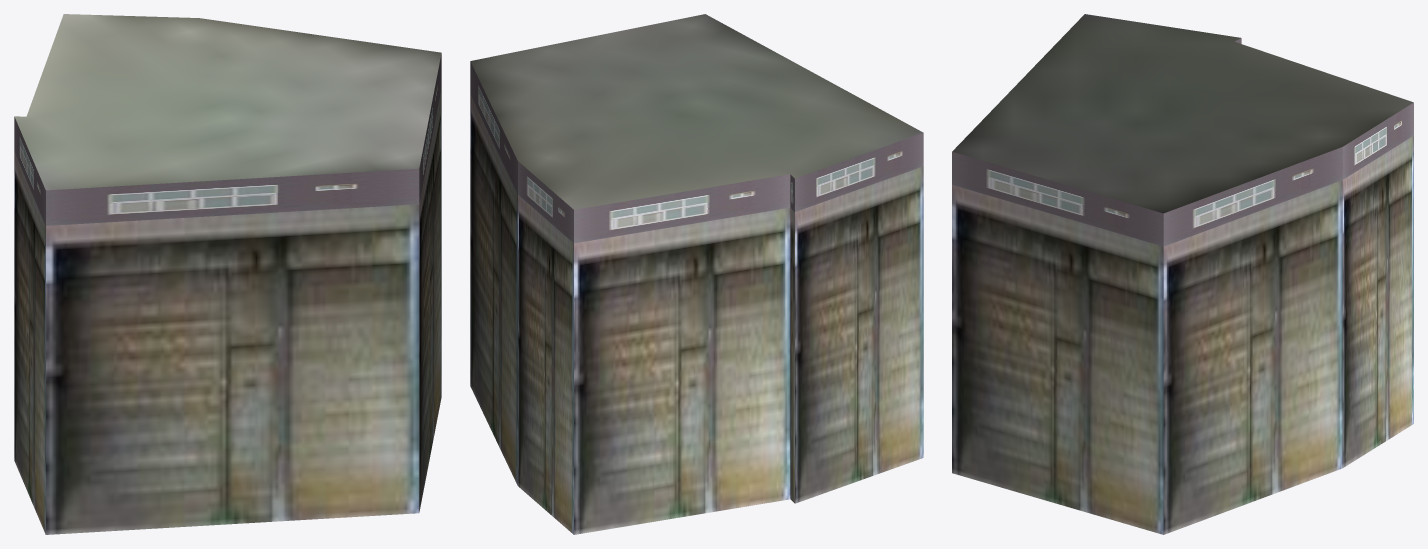
Rendered from building.obj.
3 views of the same model, side by side, from view 1: azimuth 30°, elevation 25°; view 2: azimuth 150°, elevation 25°; view 3: azimuth 270°, elevation 25° (orthographic). The views are drawn at different scales.
Parts seen in each view (by area): view 1: TaipeiGovBuilding_321214; view 2: TaipeiGovBuilding_321214; view 3: TaipeiGovBuilding_321214.
Boxes of the visible parts, x1=… form: TaipeiGovBuilding_321214: x1=14, y1=14, x2=441, y2=534; TaipeiGovBuilding_321214: x1=470, y1=14, x2=923, y2=534; TaipeiGovBuilding_321214: x1=952, y1=14, x2=1413, y2=534.
Bounding box in the file's own units: 4.9 × 3.68 × 4.79.
Materials: 1 (1 with a texture image).
